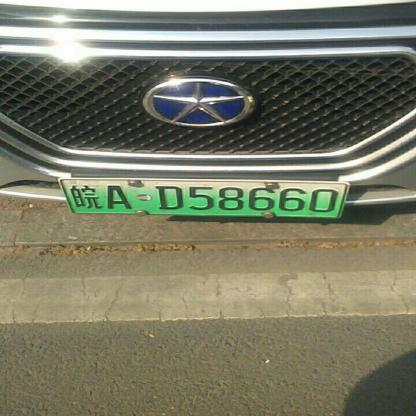lp: (58, 178, 348, 217)
